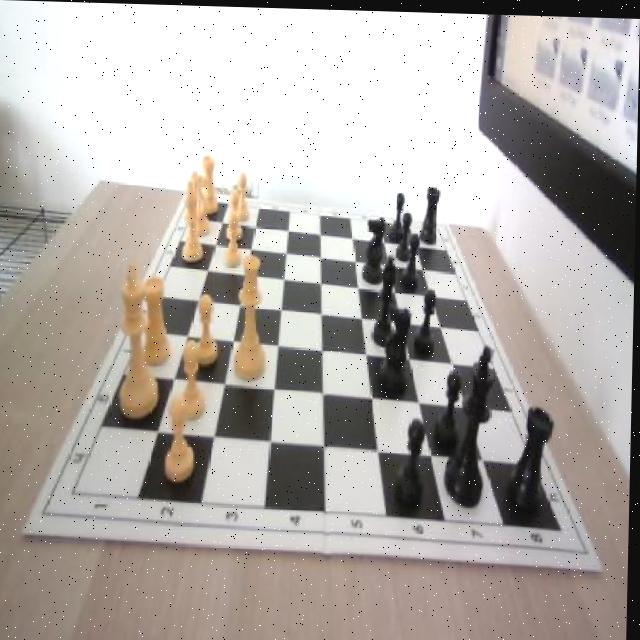bishop: (372, 252, 397, 349)
black-bishop: (445, 341, 495, 507)
black-king: (379, 304, 413, 396), (363, 212, 387, 282)
black-knight: (397, 419, 429, 507), (436, 364, 463, 450), (414, 284, 438, 354), (403, 233, 421, 289), (390, 191, 407, 243), (397, 209, 414, 258)
black-queen: (510, 403, 555, 518), (420, 184, 440, 241)
black-rook: (183, 180, 206, 259)
white-bishop: (114, 263, 162, 418)
white-king: (188, 169, 213, 240)
white-knight: (164, 395, 199, 485), (182, 340, 213, 423), (194, 291, 221, 363), (225, 210, 245, 266), (227, 187, 243, 240), (236, 169, 250, 219)
white-pawn: (235, 252, 269, 379)
white-queen: (141, 276, 174, 365), (201, 154, 221, 214)
